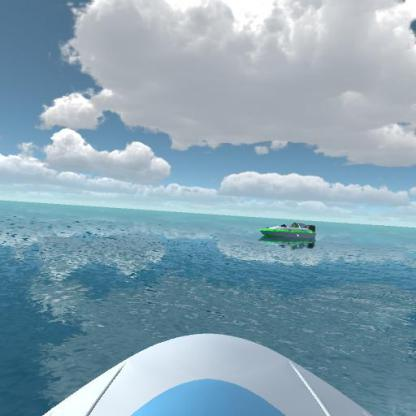usv0: (254, 214, 322, 248)
